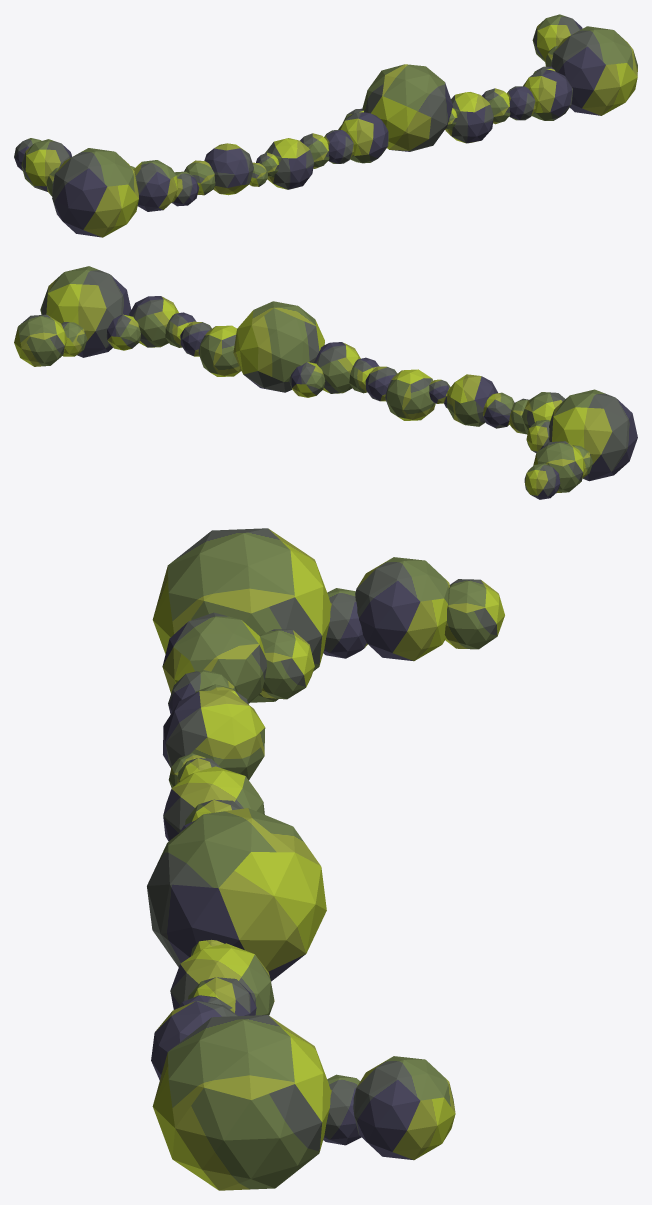
Rendered from Bushes.fbx.
3 renders of one model, top to bottom at view 1: azimuth 30°, elevation 25°; view 2: azimuth 150°, elevation 25°; view 3: azimuth 270°, elevation 25°, orthographic. The views are drawn at different scales.
Visible parts, largest first — view 1: Icosphere.023; view 2: Icosphere.023; view 3: Icosphere.023.
Part boxes in pixels (bbox=[...]): Icosphere.023: bbox=[14, 14, 637, 237]; Icosphere.023: bbox=[14, 266, 637, 499]; Icosphere.023: bbox=[147, 528, 504, 1190].
Size of the model in its own units: 2942 by 451 by 793.
